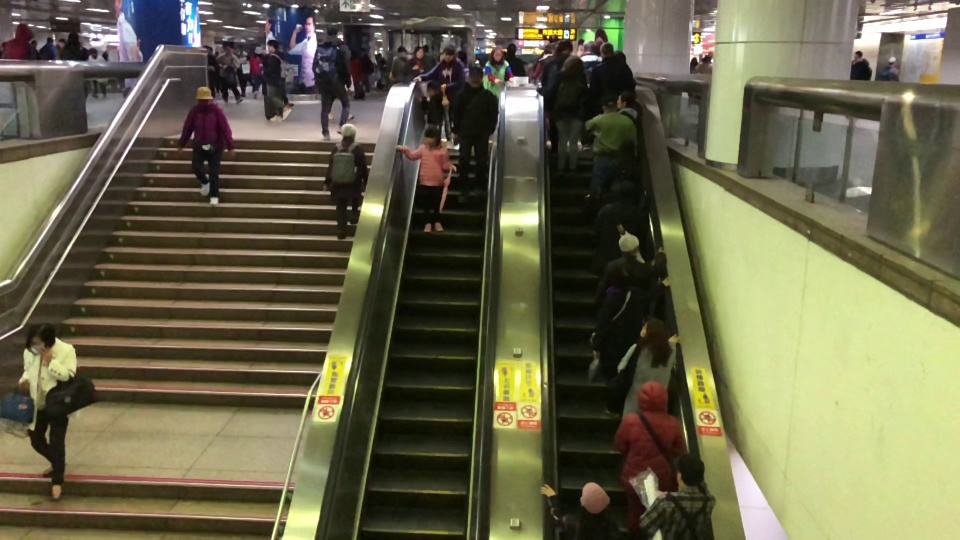person_head: (672, 452, 705, 490), (576, 479, 611, 513), (635, 378, 669, 412), (24, 322, 56, 353), (616, 179, 640, 203), (617, 231, 640, 256), (640, 317, 665, 339), (14, 21, 35, 43), (599, 92, 619, 115), (612, 265, 634, 285), (617, 140, 637, 161), (340, 121, 358, 143), (562, 54, 584, 72), (615, 88, 633, 109), (468, 64, 484, 87), (424, 124, 440, 147), (194, 85, 213, 104), (598, 41, 615, 62), (554, 39, 574, 55), (424, 80, 440, 98), (323, 22, 340, 37), (581, 38, 598, 53), (543, 41, 560, 55), (441, 45, 455, 61), (67, 30, 81, 43), (266, 38, 278, 53), (412, 44, 424, 58), (88, 45, 99, 59), (506, 42, 517, 56), (887, 54, 897, 68), (223, 44, 233, 56), (853, 49, 862, 60), (702, 53, 711, 63)
person_vbox: (586, 262, 672, 414), (18, 321, 77, 503), (613, 381, 688, 500), (637, 452, 718, 540), (176, 87, 234, 206), (390, 124, 452, 233), (617, 318, 681, 423), (449, 67, 498, 203), (592, 231, 667, 318), (535, 54, 589, 172), (582, 94, 637, 208), (320, 120, 370, 238), (539, 476, 629, 540), (412, 45, 467, 145), (590, 180, 650, 270), (312, 22, 351, 141), (542, 39, 577, 168), (589, 42, 634, 110), (256, 39, 291, 122), (597, 135, 641, 196), (213, 45, 243, 104), (0, 21, 41, 62), (421, 82, 446, 143), (86, 45, 110, 100), (579, 40, 604, 89), (532, 39, 558, 80), (616, 88, 639, 134), (58, 29, 89, 62), (504, 41, 527, 78), (403, 46, 428, 80), (850, 49, 872, 84), (879, 53, 901, 82), (693, 53, 712, 77)
